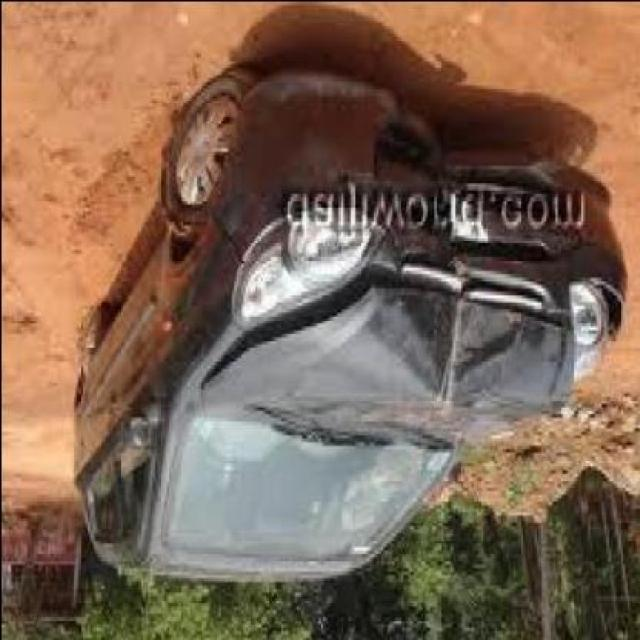damage: (170, 62, 622, 400)
